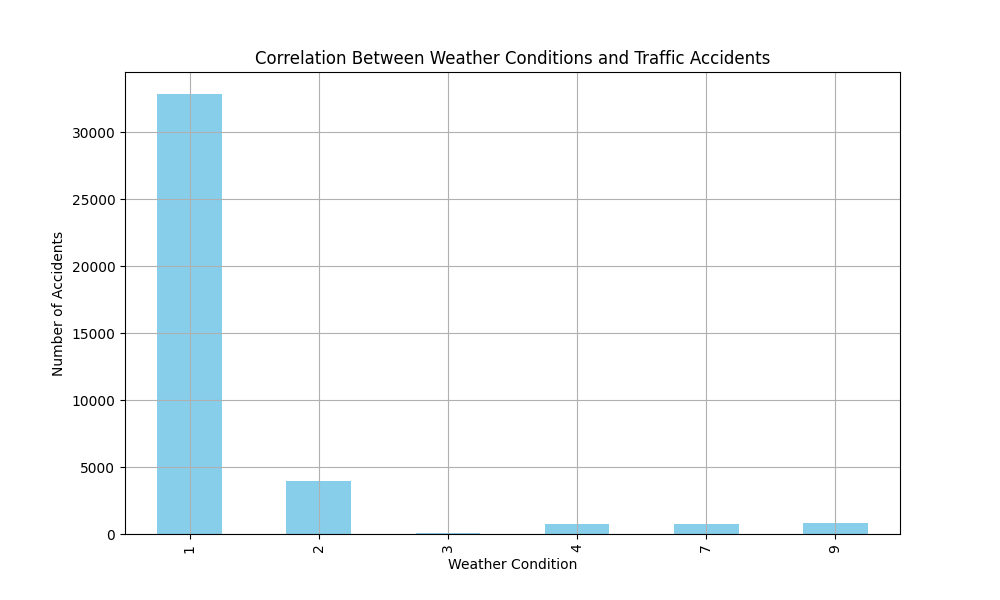

The dashboard page shown, as its layout file describes it:
{"tool":"tableau","page":{"name":"Dashboard 1","canvas":[1000,1000],"units":"permille","ordinal":0},"visuals":[{"type":"worksheet","title":"Sheet 2","mark":"Bar","rows":["count"],"cols":["date","date"],"box":[1.8,480.7,991,499.4]}]}

Visuals, with their boxes on the dashboard's canvas, which has no fixed pixel size, in thousandths of its width and height (x1, y1, x2, y2). These are canvas units, not pixel positions in the 1000x600 screenshot, which may show the page scaled, cropped or inside an application window:
"Sheet 2" worksheet (Bar marks): pyautogui.locateOnScreen(2, 481, 993, 980)
